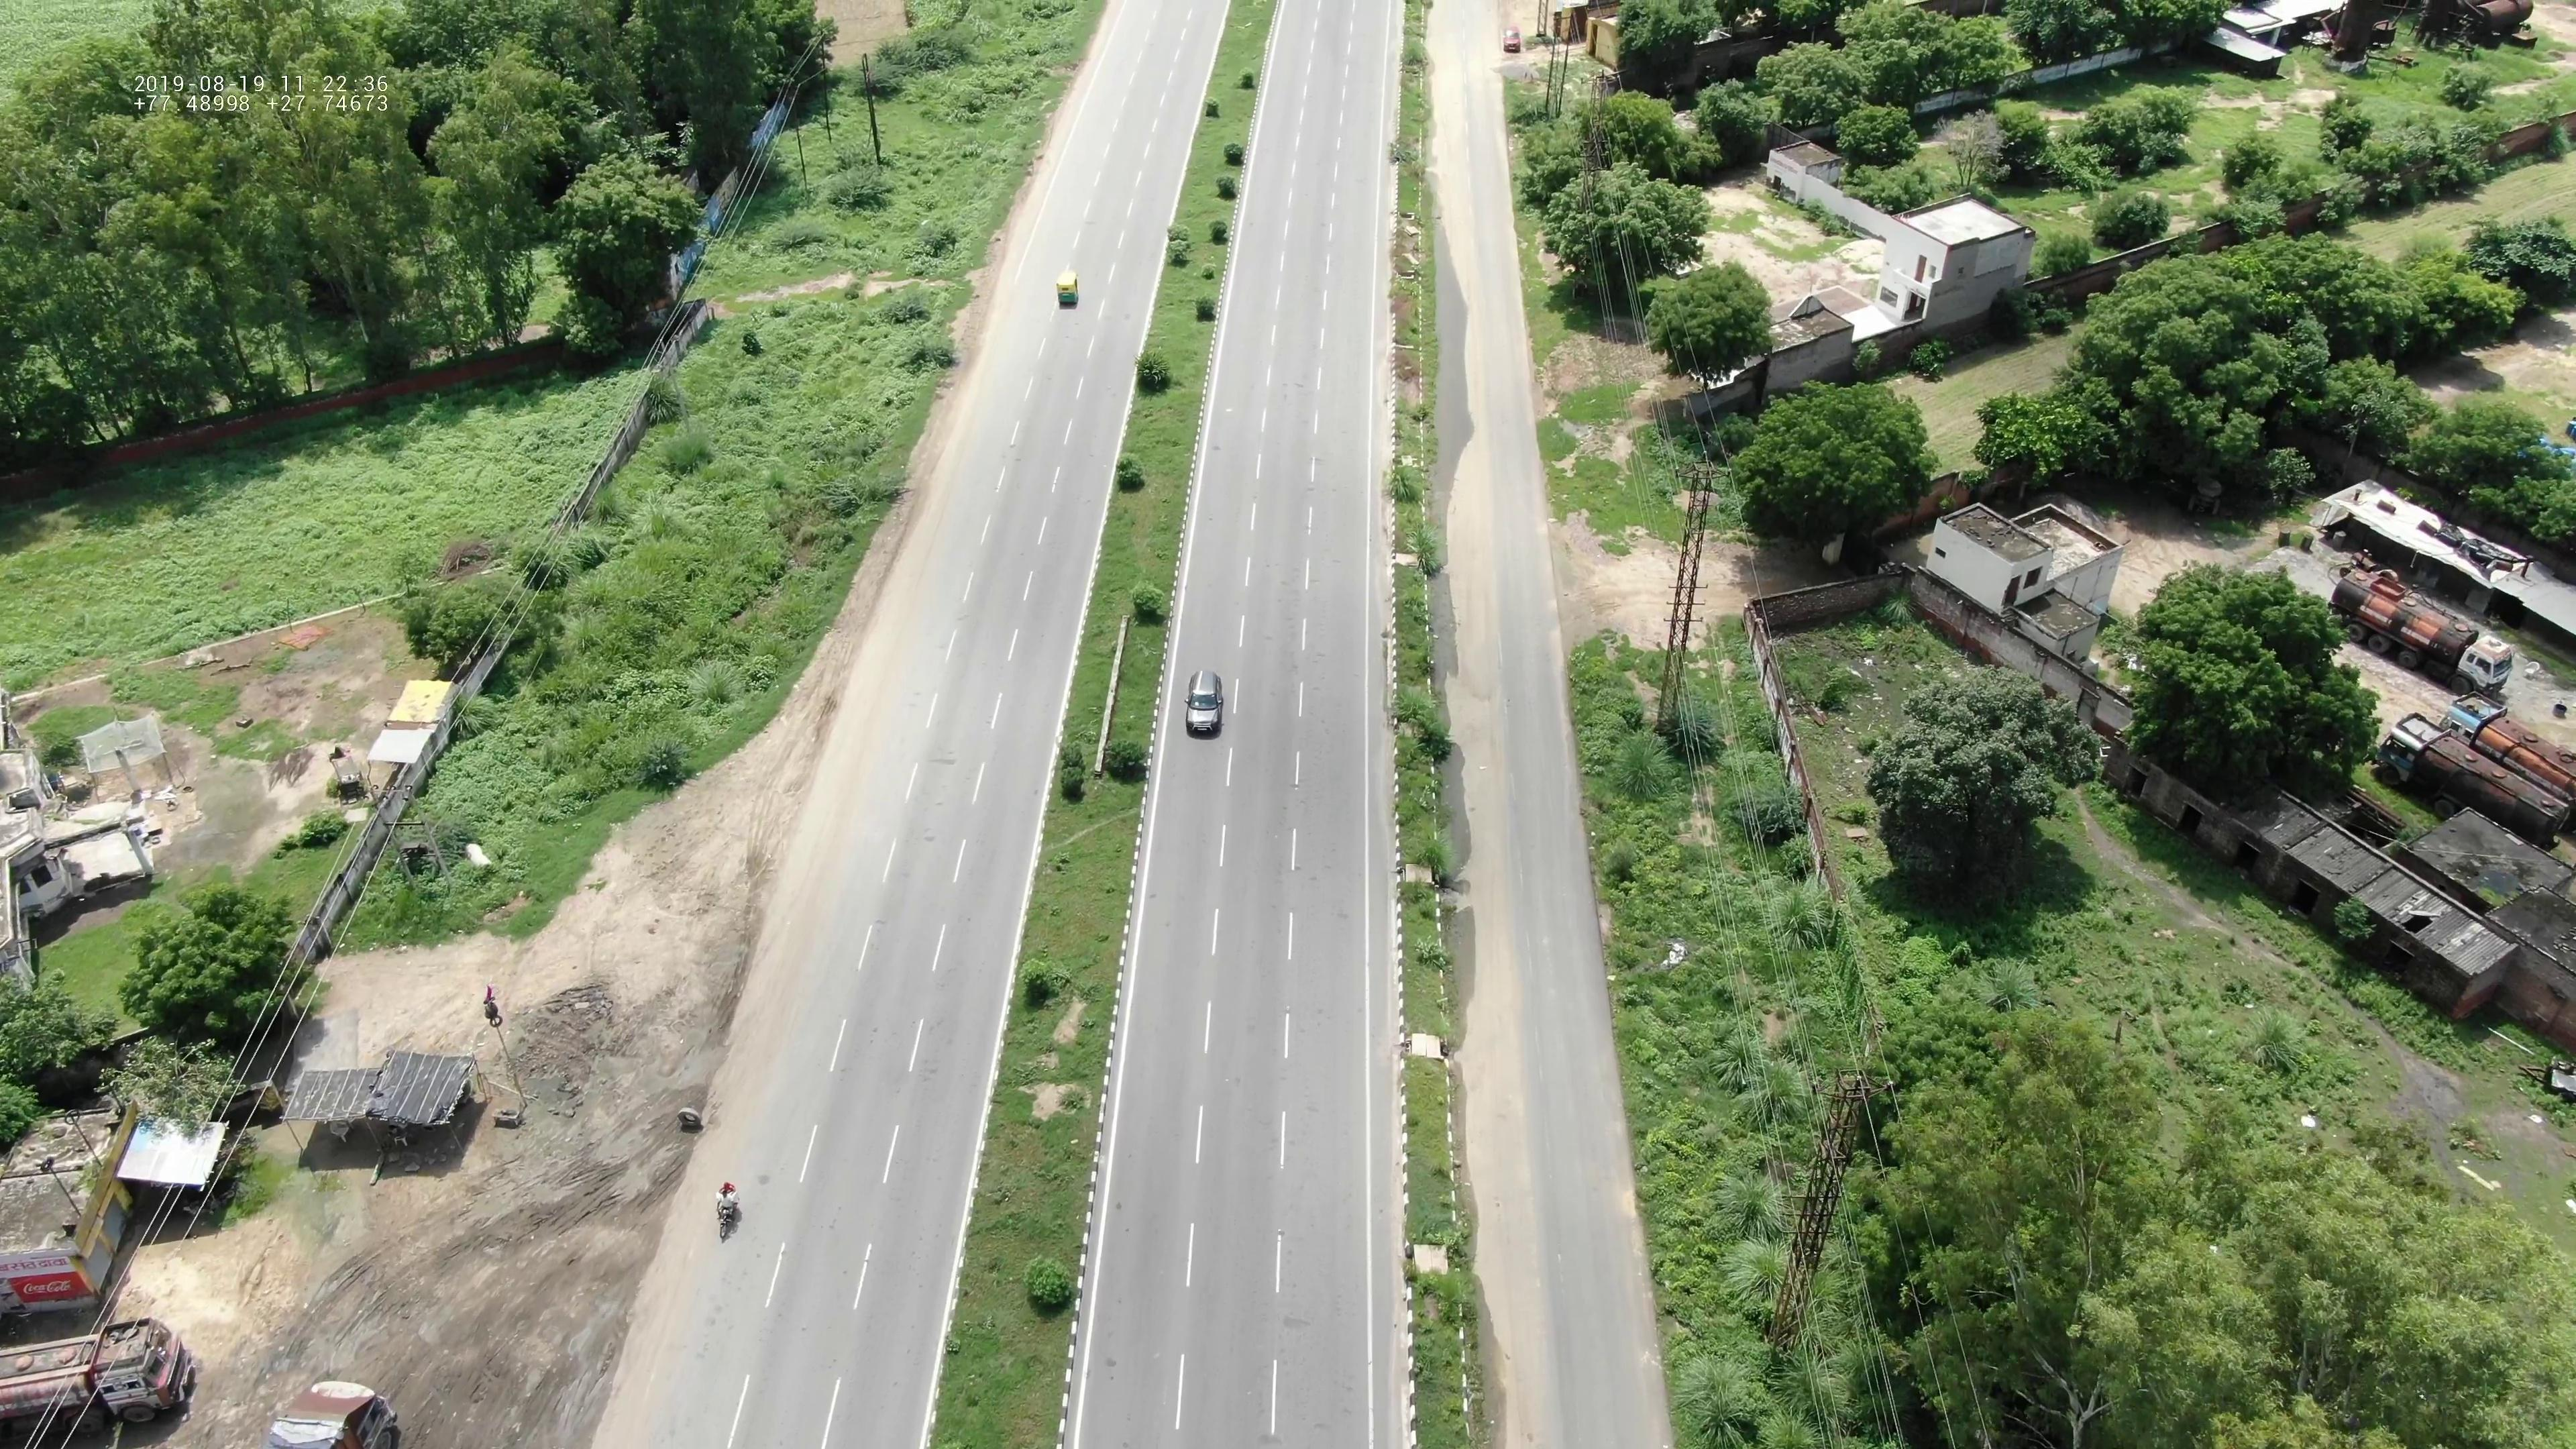Waterlogging: (1424, 246, 1483, 465)
